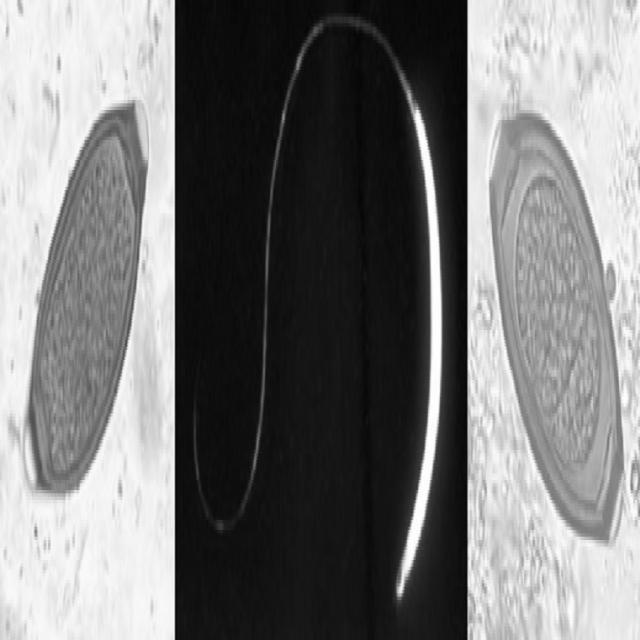Trichuris Trichiura: (485, 90, 631, 577), (21, 56, 154, 526)
